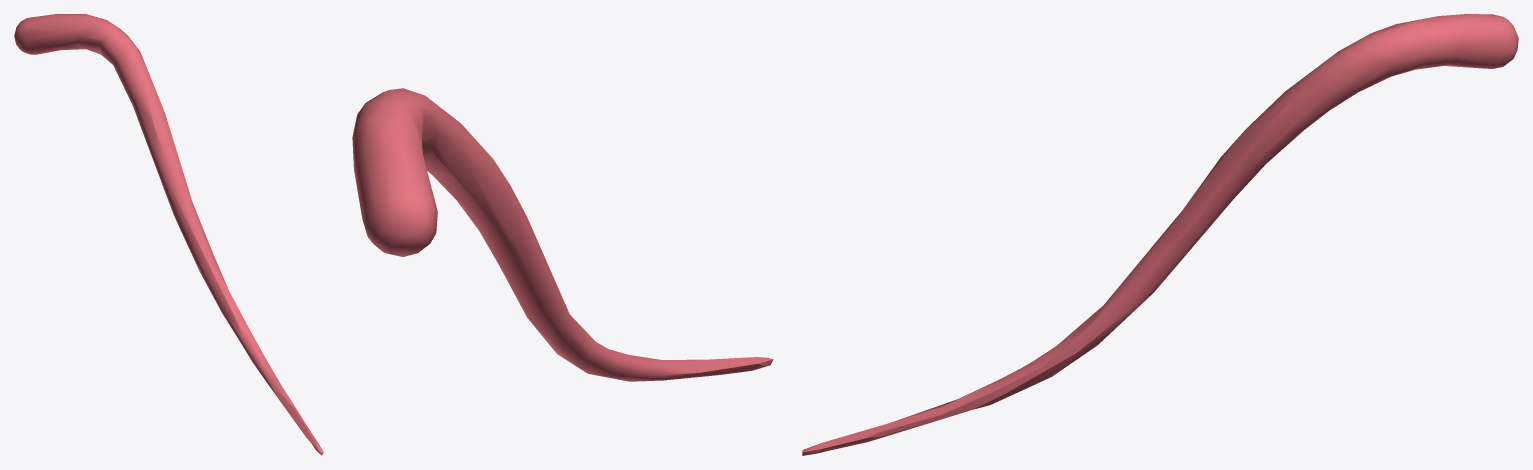
The model's file is fma79588_fj5168.glb.
3 views of the same model, side by side, from view 1: azimuth 30°, elevation 25°; view 2: azimuth 150°, elevation 25°; view 3: azimuth 270°, elevation 25° (orthographic). The views are drawn at different scales.
Visible parts, largest first — view 1: FMA79588_FJ5168; view 2: FMA79588_FJ5168; view 3: FMA79588_FJ5168.
Boxes of the visible parts, x1,y1,x2,y2 form: FMA79588_FJ5168: (14, 14, 323, 455); FMA79588_FJ5168: (352, 88, 773, 381); FMA79588_FJ5168: (802, 14, 1518, 455).
Size of the model in its own units: 0.00419 by 0.0148 by 0.0228.
